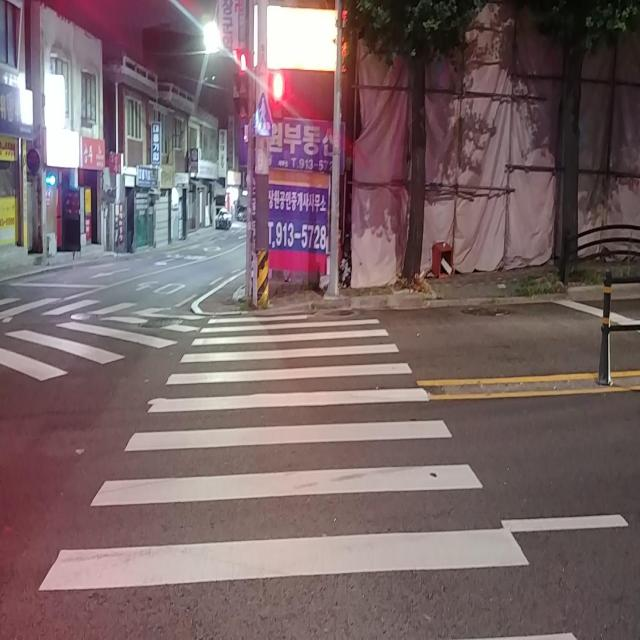빨간불: (267, 69, 292, 126)
횡단보도: (33, 309, 578, 640)
